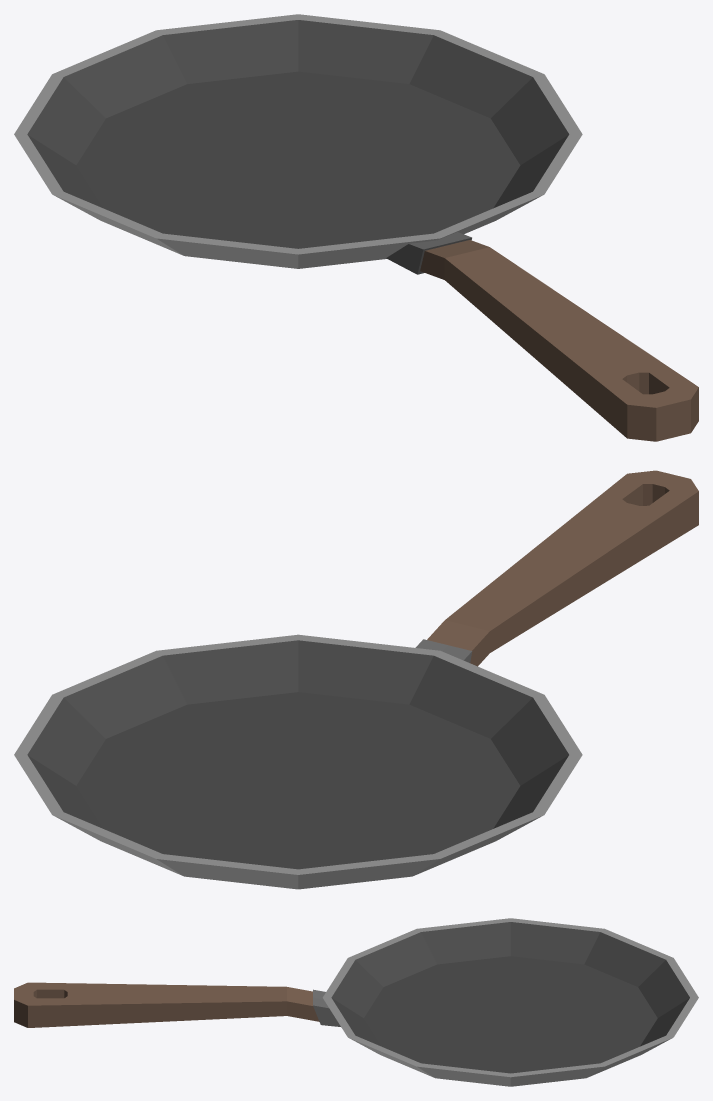
File: Pan_07_C1.fbx
3 views of the same model, one above another, from view 1: azimuth 30°, elevation 25°; view 2: azimuth 150°, elevation 25°; view 3: azimuth 270°, elevation 25° (orthographic). The views are drawn at different scales.
Parts seen in each view (by area): view 1: Pan_07_C1; view 2: Pan_07_C1; view 3: Pan_07_C1.
Boxes of the visible parts, bbox=[...] form: Pan_07_C1: bbox=[14, 14, 698, 441]; Pan_07_C1: bbox=[14, 470, 698, 889]; Pan_07_C1: bbox=[14, 918, 698, 1086].
Bounding box in the file's own units: 27.92 × 2.36 × 50.82.
